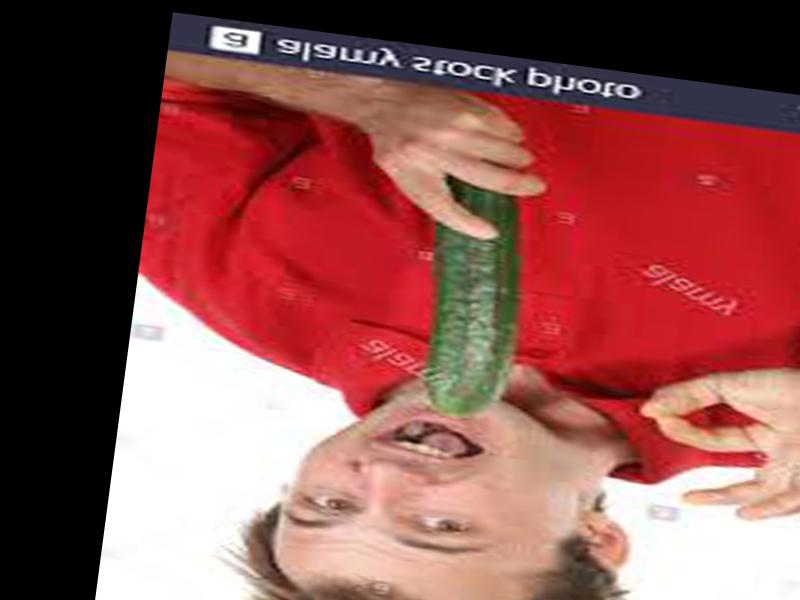Cucumber: (421, 180, 523, 419)
